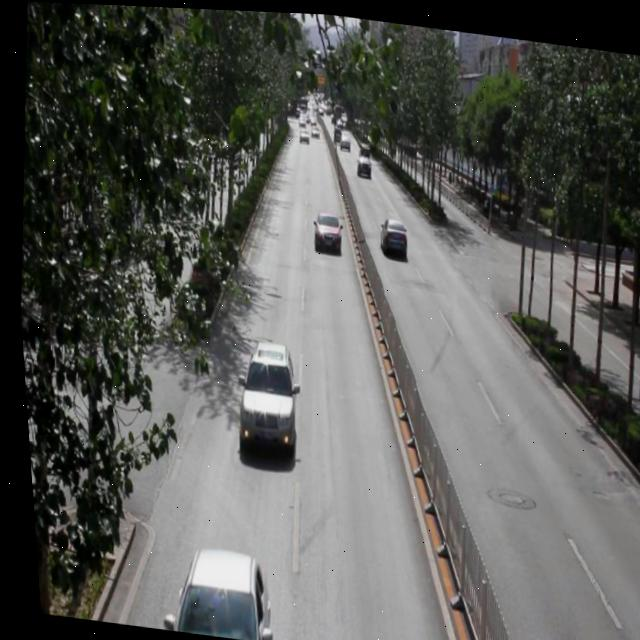car: (162, 540, 269, 640), (228, 336, 299, 452), (306, 207, 340, 254), (374, 211, 406, 255), (351, 151, 368, 173), (353, 137, 368, 158), (294, 123, 308, 144), (336, 129, 350, 147), (306, 120, 319, 136)
truck: (329, 122, 341, 140)
